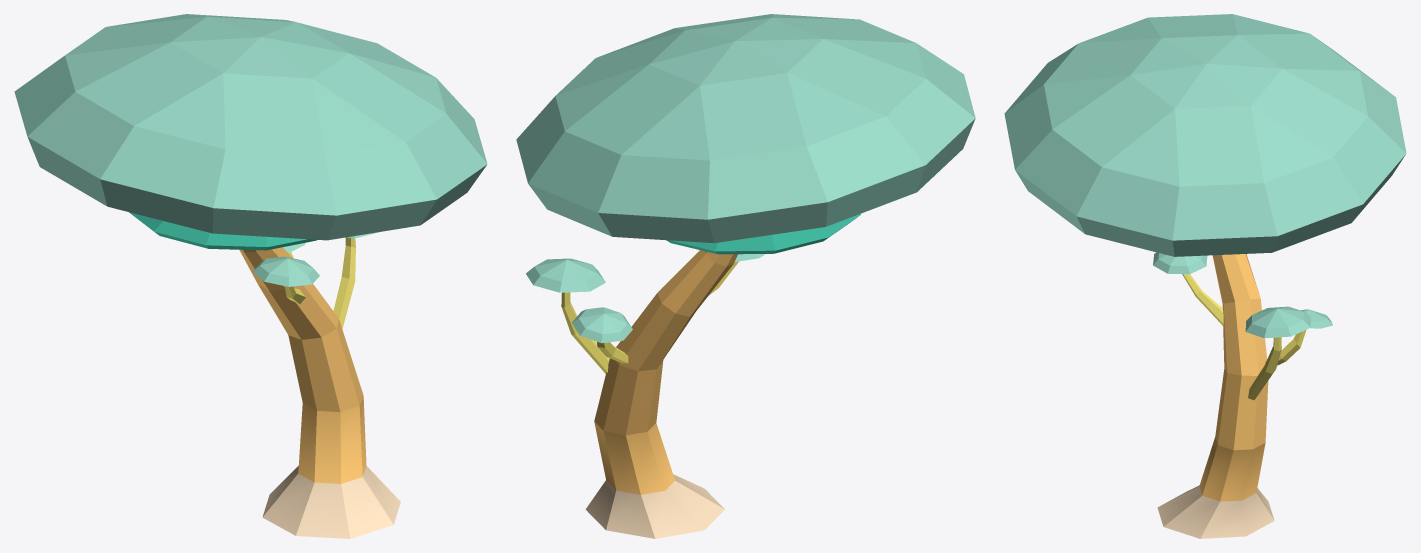
The model's file is mushroom_001.fbx.
The picture shows the model from 3 angles, left to right: view 1: azimuth 30°, elevation 25°; view 2: azimuth 150°, elevation 25°; view 3: azimuth 270°, elevation 25°; orthographic projection. The views are drawn at different scales.
Parts seen in each view (by area): view 1: mushroom.001; view 2: mushroom.001; view 3: mushroom.001.
Part boxes in pixels (x1,y1,x2,y2): mushroom.001: [14, 14, 487, 538]; mushroom.001: [516, 14, 975, 538]; mushroom.001: [1004, 14, 1406, 538].
Size of the model in its own units: 1384 by 1605 by 1395.
Materials: 1 (1 with a texture image).
